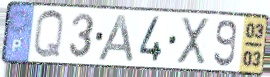3: (67, 12, 96, 61)
4: (137, 14, 164, 65)
9: (213, 19, 239, 68)
A: (96, 13, 137, 64)
Q: (31, 8, 66, 62)
X: (177, 16, 211, 66)
